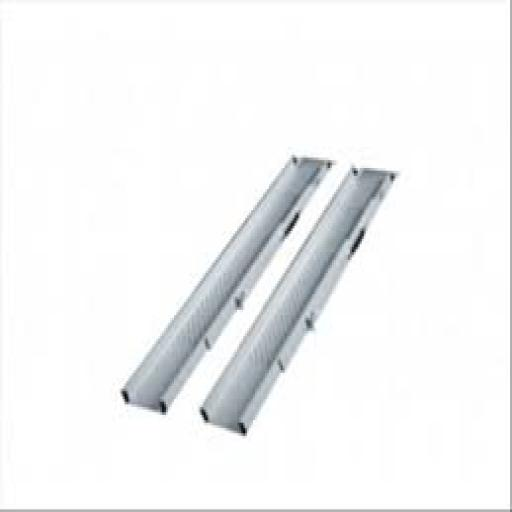ramp: (120, 151, 398, 437)
